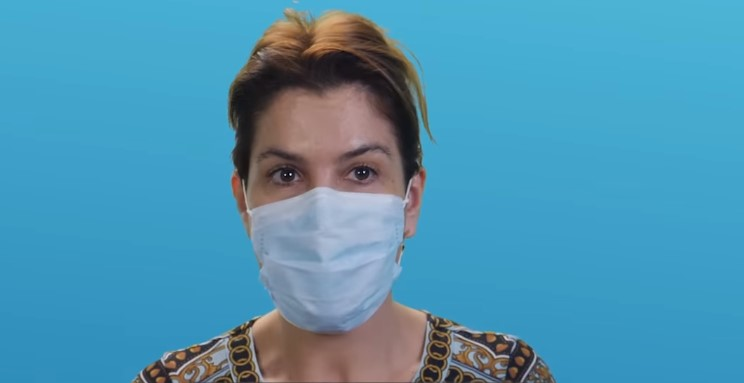face_with_mask: (229, 29, 423, 339)
